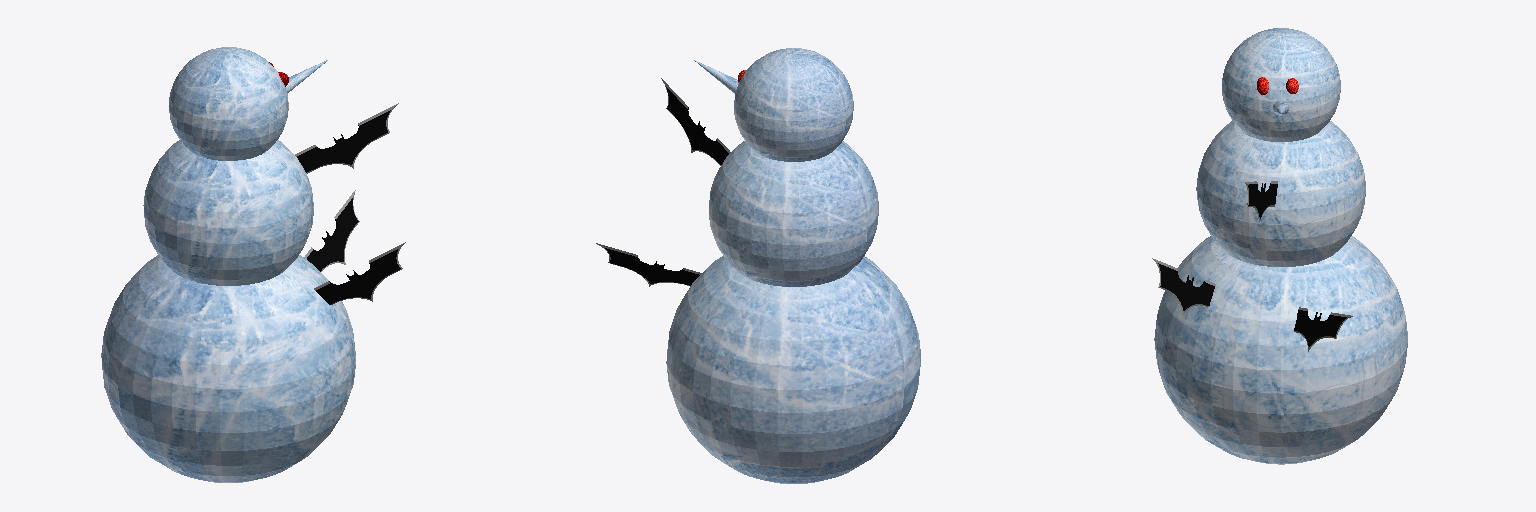
The picture shows the model from 3 angles: view 1: azimuth 30°, elevation 25°; view 2: azimuth 150°, elevation 25°; view 3: azimuth 270°, elevation 25°; orthographic projection.
Parts seen in each view (by area): view 1: Esfera, Esfera.001, Esfera.002, Batarang, Batarang.002, Batarang.001; view 2: Esfera, Esfera.001, Esfera.002, Batarang, Batarang.001; view 3: Esfera, Esfera.001, Esfera.002, Batarang.002, Batarang.001, Batarang.
Part boxes in pixels (bbox=[...]): Esfera: bbox=[101, 255, 355, 482]; Esfera.001: bbox=[143, 140, 313, 285]; Esfera.002: bbox=[169, 47, 288, 160]; Batarang: bbox=[295, 103, 398, 173]; Batarang.002: bbox=[314, 242, 405, 304]; Batarang.001: bbox=[304, 190, 359, 271]; Esfera: bbox=[666, 256, 920, 483]; Esfera.001: bbox=[709, 141, 878, 286]; Esfera.002: bbox=[734, 48, 853, 161]; Batarang: bbox=[661, 78, 730, 165]; Batarang.001: bbox=[596, 243, 701, 286]; Esfera: bbox=[1154, 236, 1407, 464]; Esfera.001: bbox=[1196, 121, 1365, 266]; Esfera.002: bbox=[1222, 28, 1340, 141]; Batarang.002: bbox=[1152, 258, 1215, 315]; Batarang.001: bbox=[1294, 307, 1352, 351]; Batarang: bbox=[1245, 181, 1277, 221].
Bounding box in the file's own units: 31.31 × 45.62 × 25.34.
8 materials, 3 textured.